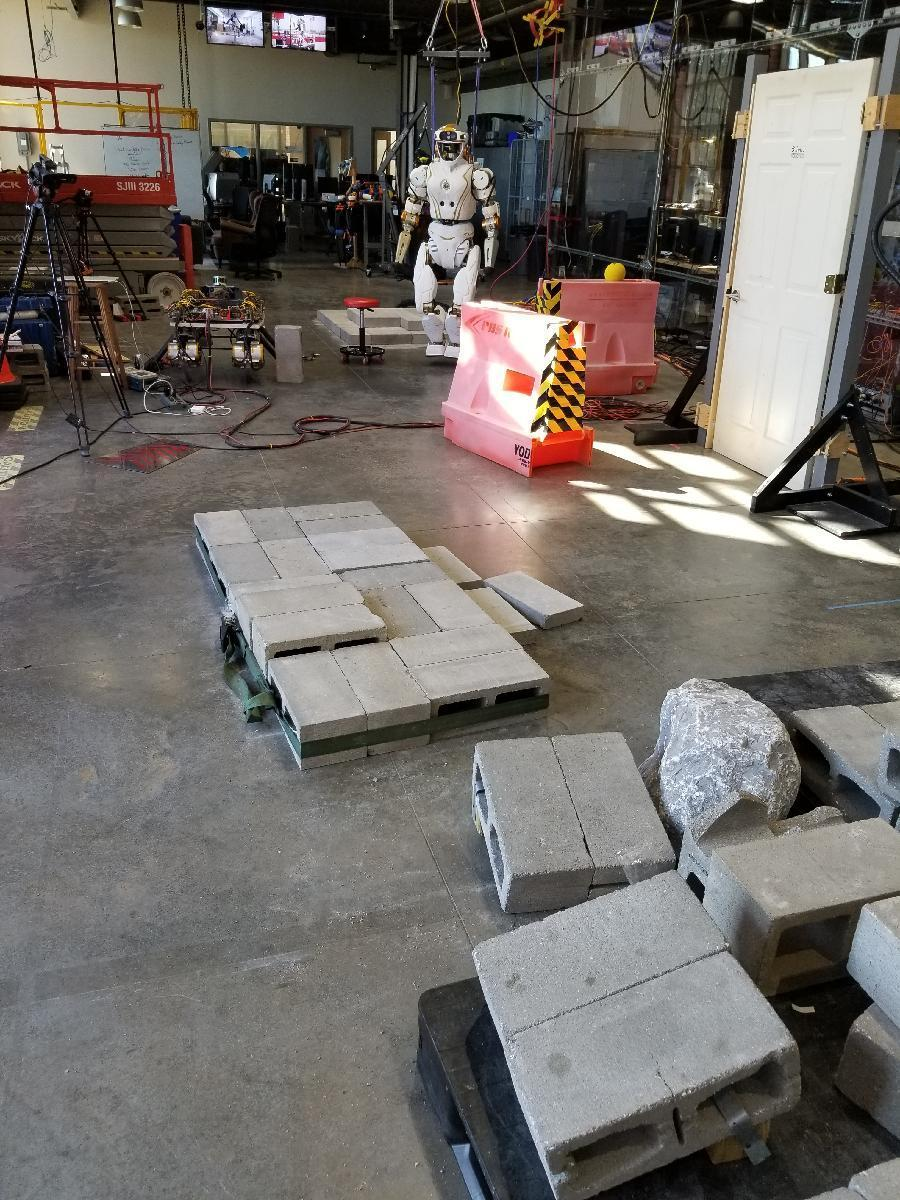door: (721, 58, 865, 498)
